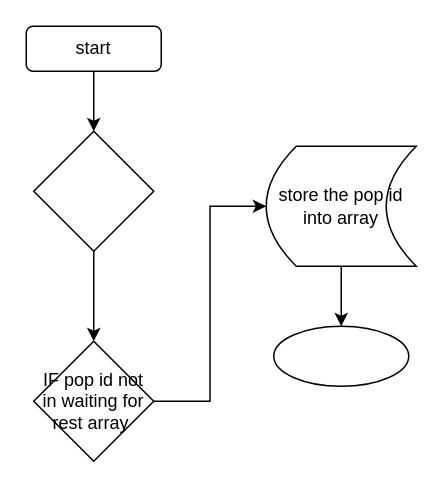
Image size: 443x488. Some labels were removed from this diagram. Each missing label, with the box of its shape:
end: (272, 325, 409, 386)
TIMEOUT of given time: (32, 130, 154, 251)
